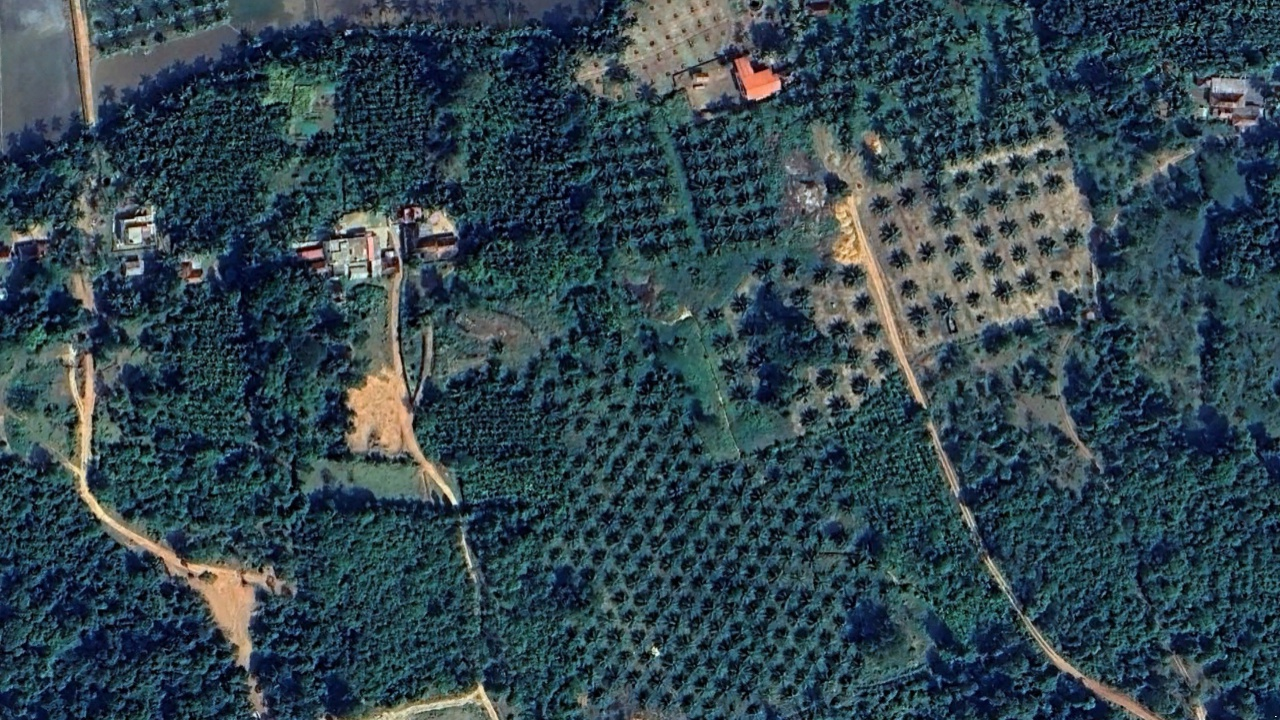arecanut: (104, 78, 286, 221), (474, 59, 579, 283), (423, 377, 560, 506), (332, 36, 431, 205), (173, 289, 255, 447)
